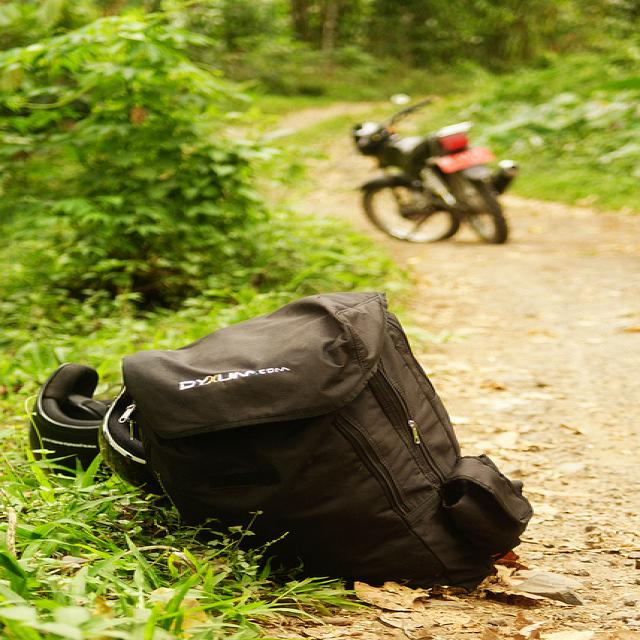motor: (348, 91, 519, 249)
